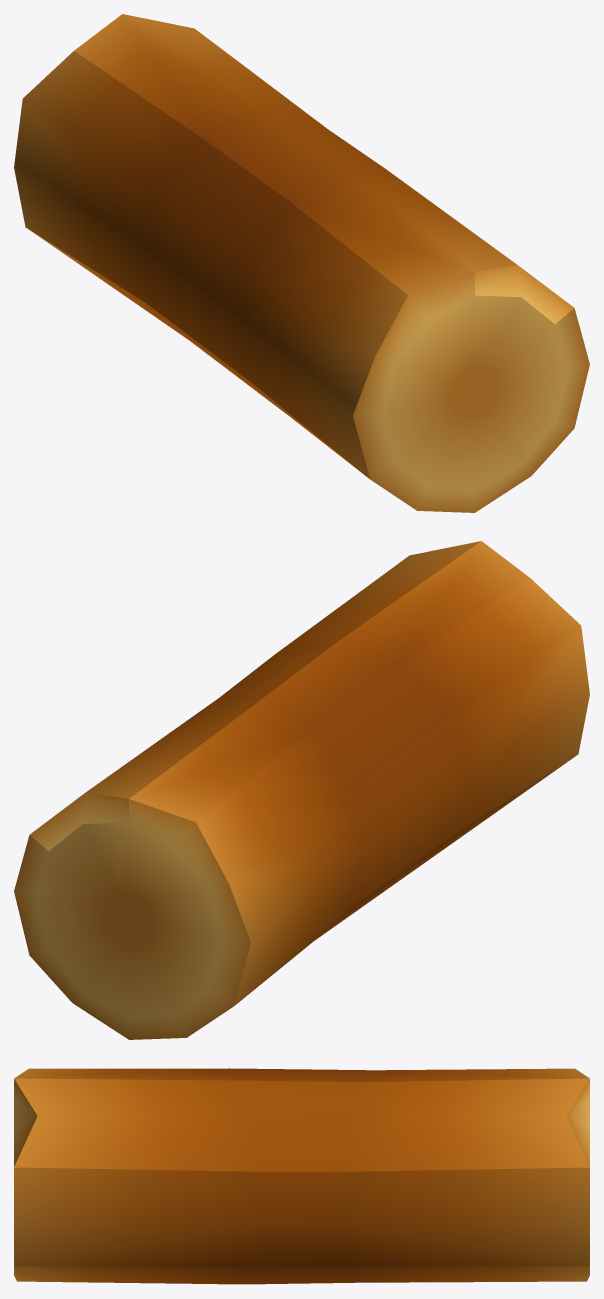
Rendered from Wood.fbx.
The picture shows the model from 3 angles, top to bottom: view 1: azimuth 30°, elevation 25°; view 2: azimuth 150°, elevation 25°; view 3: azimuth 270°, elevation 25°; orthographic projection. The views are drawn at different scales.
Parts seen in each view (by area): view 1: Cylinder; view 2: Cylinder; view 3: Cylinder.
Boxes of the visible parts, bbox=[...] form: Cylinder: bbox=[14, 14, 589, 512]; Cylinder: bbox=[14, 541, 589, 1039]; Cylinder: bbox=[14, 1068, 589, 1284].
Size of the model in its own units: 200 by 200 by 530.
